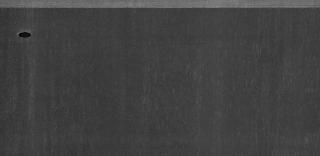punching hole: (14, 29, 36, 40)
welding line: (1, 4, 320, 14)
